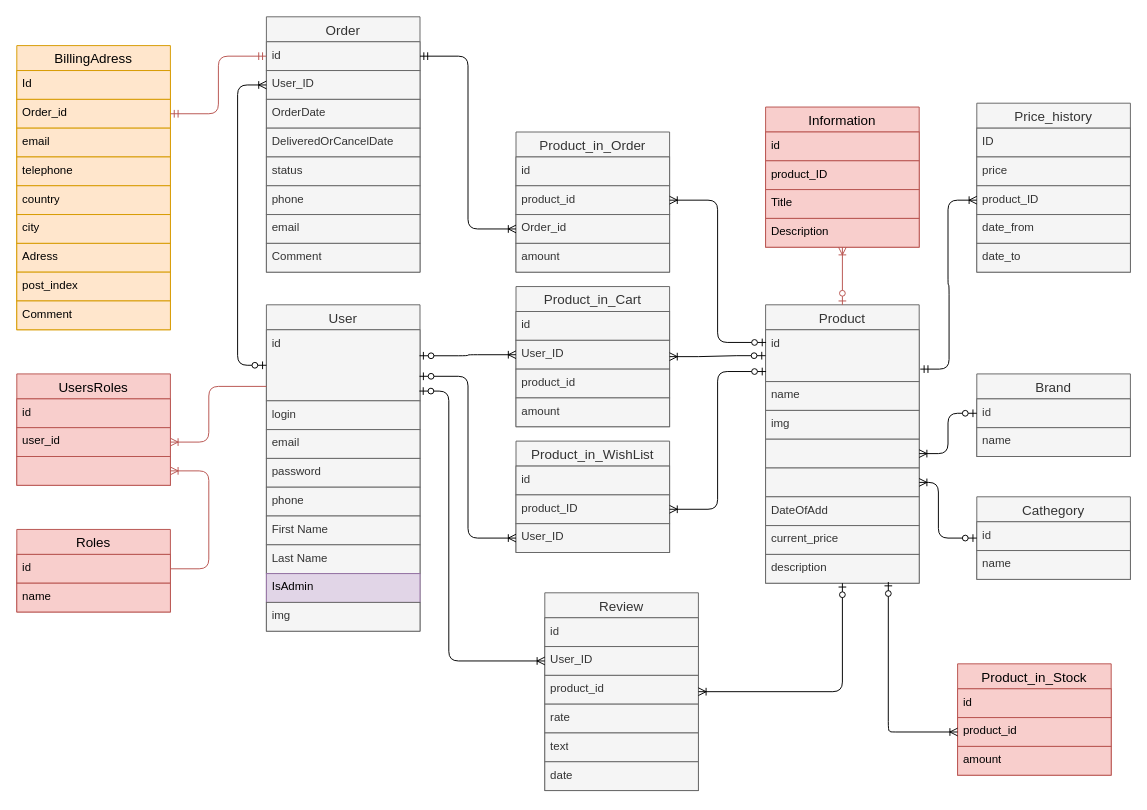
The diagram is 1147 pixels wide and 810 high, and some of its shapes have lost their labels. Each missing label, with the centre of its shape:
Brand_id: [842,453]
Cathegory_id: [842,482]
role_id: [93,470]
